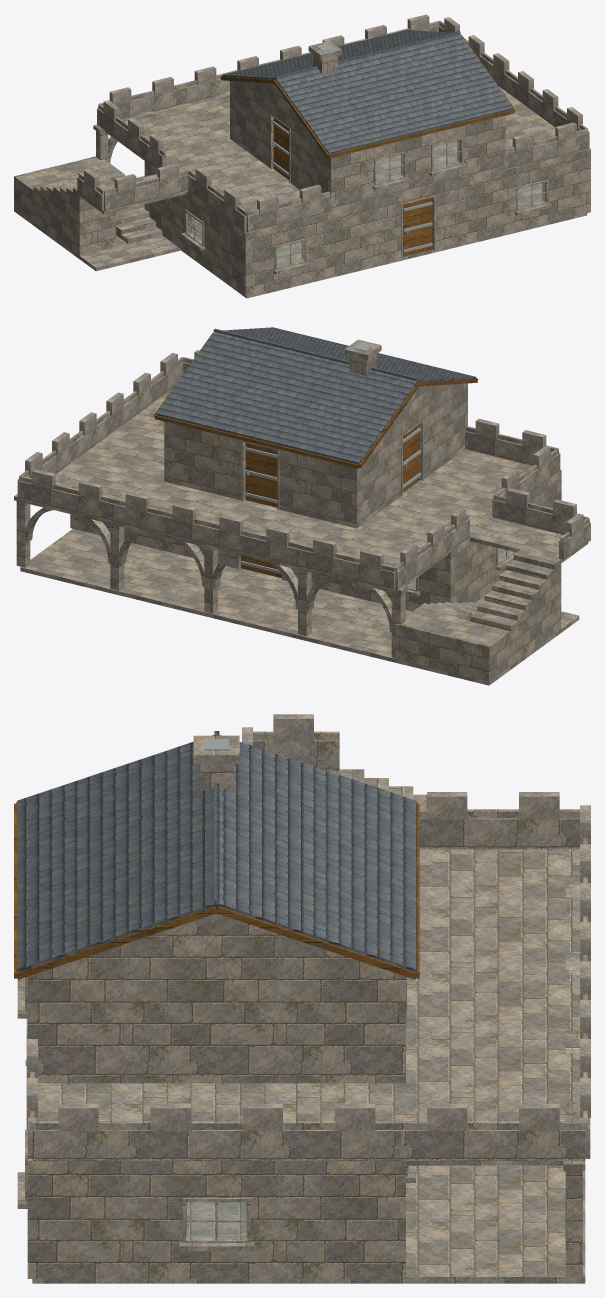
The model's file is castle-keep.gltf.
3 views of the same model, one above another, from view 1: azimuth 30°, elevation 25°; view 2: azimuth 150°, elevation 25°; view 3: azimuth 270°, elevation 25° (orthographic). The views are drawn at different scales.
Parts seen in each view (by area): view 1: exterior-L0-stone, roof-parapet-L1-stone, roof-L2-shingle, exterior-L1-stone, floor-L1-stone, stairs-L0-stone, floor-L0-stone, datum-band-L0-stone, facade-trim-L0-stone, roof-trim-L2-trim, door-L0-door, facade-trim-L1-stone (+8 smaller); view 2: roof-parapet-L1-stone, roof-L2-shingle, floor-L1-stone, floor-L0-stone, exterior-L1-stone, stairs-L0-stone, exterior-L0-stone, structure-L0-stone, door-L1-door (×2), roof-trim-L2-trim, gable-infill-L1-stone, portal-trim-L1-stone (+3 smaller); view 3: roof-L2-shingle, floor-L1-stone, roof-parapet-L1-stone, exterior-L1-stone, exterior-L0-stone, floor-L0-stone, gable-infill-L1-stone, structure-L0-stone, roof-trim-L2-trim, datum-band-L0-stone, facade-trim-L0-stone, datum-band-L1-stone (+4 smaller).
Boxes of the visible parts, x1,y1,x2,y2 form: exterior-L0-stone: (144,153,590,296); roof-parapet-L1-stone: (77,14,589,232); roof-L2-shingle: (222,30,513,154); exterior-L1-stone: (230,81,505,212); floor-L1-stone: (79,86,555,214); stairs-L0-stone: (14,156,162,255); floor-L0-stone: (14,176,587,298); datum-band-L0-stone: (144,140,590,236); facade-trim-L0-stone: (180,179,551,274); roof-trim-L2-trim: (220,35,514,158); door-L0-door: (403,198,432,256); facade-trim-L1-stone: (372,137,466,190); roof-parapet-L1-stone: (17,350,590,590); roof-L2-shingle: (156,327,476,464); floor-L1-stone: (20,389,588,593); floor-L0-stone: (20,529,579,685); exterior-L1-stone: (164,383,467,528); stairs-L0-stone: (395,549,561,681); exterior-L0-stone: (70,474,561,611); structure-L0-stone: (14,494,408,657); door-L1-door (×2): (245,424,419,507); roof-trim-L2-trim: (154,333,478,468); gable-infill-L1-stone: (379,384,458,442); portal-trim-L1-stone: (241,419,423,509); roof-L2-shingle: (17,735,416,972); floor-L1-stone: (37,771,579,1165); roof-parapet-L1-stone: (27,714,590,1160); exterior-L1-stone: (27,971,405,1083); exterior-L0-stone: (27,1167,405,1278); floor-L0-stone: (32,1165,585,1283); gable-infill-L1-stone: (63,913,369,964); structure-L0-stone: (563,849,585,1280); roof-trim-L2-trim: (14,802,419,979); datum-band-L0-stone: (27,1083,405,1167); facade-trim-L0-stone: (17,977,415,1251); datum-band-L1-stone: (43,965,389,971).
Size of the model in its own units: 15.33 by 6.19 by 9.39.
8 materials, 6 textured.
